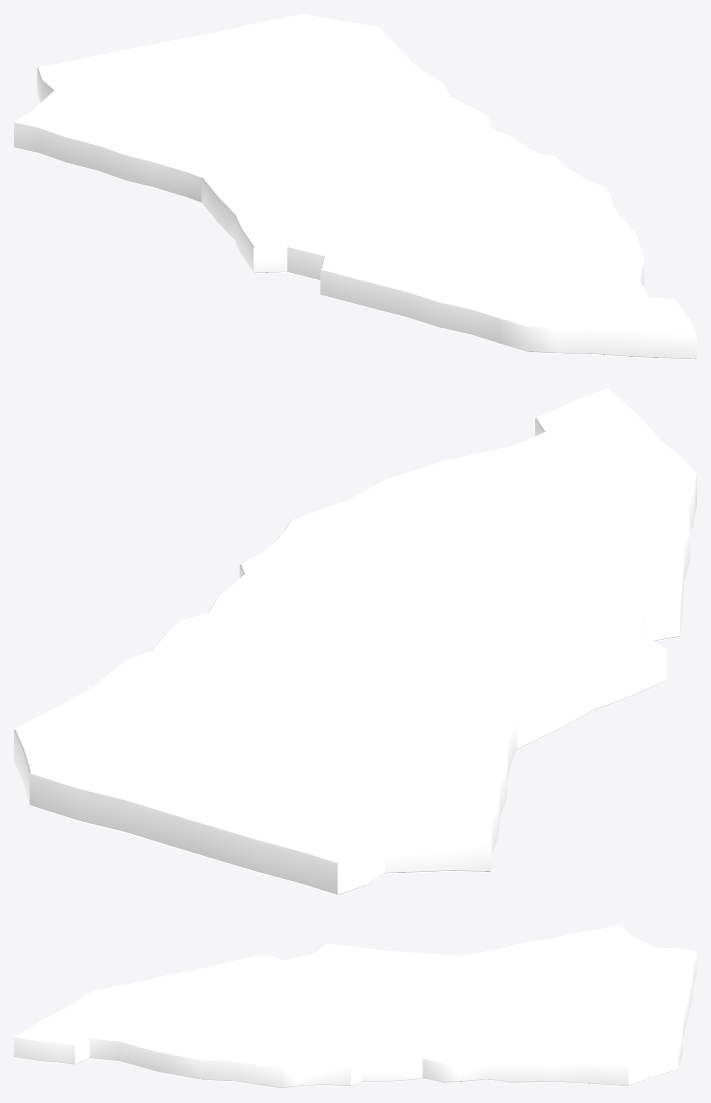
The model's file is ice_floe_large_005.glb.
3 renders of one model, top to bottom at view 1: azimuth 30°, elevation 25°; view 2: azimuth 150°, elevation 25°; view 3: azimuth 270°, elevation 25°, orthographic. The views are drawn at different scales.
Visible parts, largest first — view 1: ice_floe_large_005; view 2: ice_floe_large_005; view 3: ice_floe_large_005.
Boxes of the visible parts, left/top/right/bottom form: ice_floe_large_005: left=14, top=14, right=696, bottom=359; ice_floe_large_005: left=14, top=388, right=696, bottom=895; ice_floe_large_005: left=14, top=924, right=696, bottom=1088.
Bounding box in the file's own units: 11.94 × 0.8755 × 23.99.
1 material, 1 textured.
